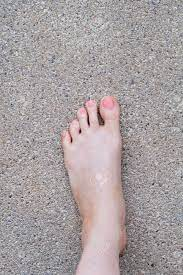Feet: (60, 98, 122, 254)
